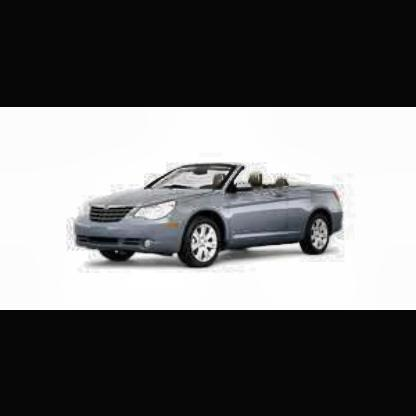Chrysler Sebring Convertible 2010: (73, 161, 347, 276)
